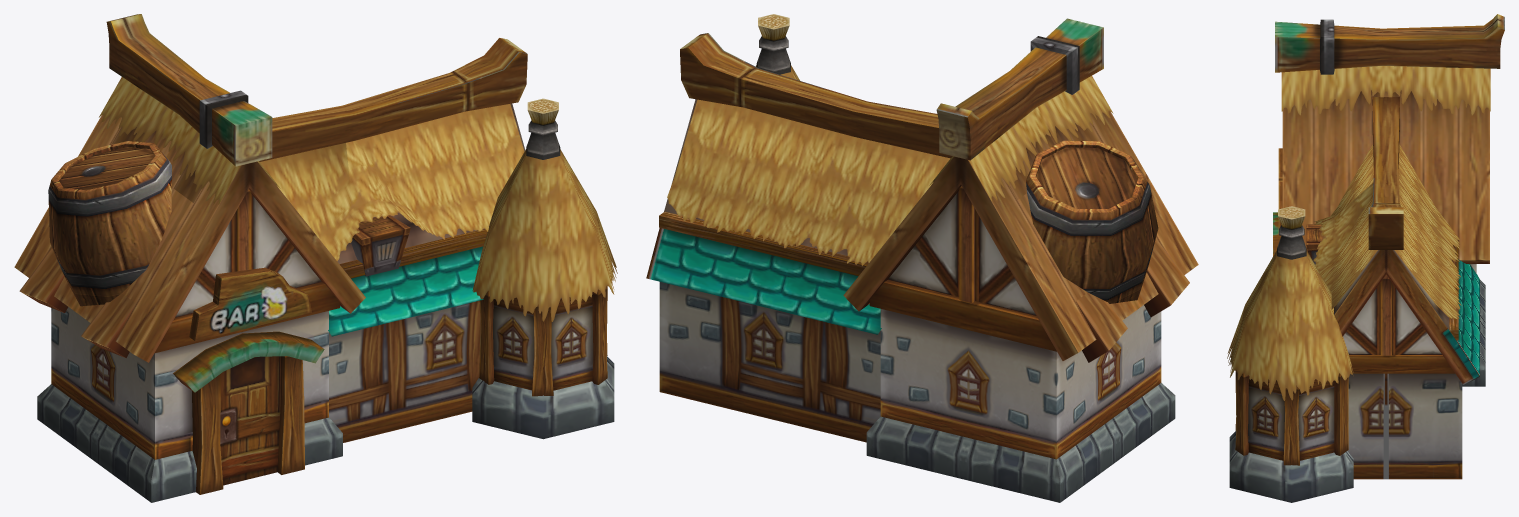
The model's file is fangzi01.FBX.
3 views of the same model, side by side, from view 1: azimuth 30°, elevation 25°; view 2: azimuth 150°, elevation 25°; view 3: azimuth 270°, elevation 25° (orthographic). The views are drawn at different scales.
Visible parts, largest first — view 1: fangzi01; view 2: fangzi01; view 3: fangzi01.
Boxes of the visible parts, bbox=[...] form: fangzi01: bbox=[14, 14, 617, 502]; fangzi01: bbox=[646, 14, 1198, 502]; fangzi01: bbox=[1227, 14, 1504, 502].
Bounding box in the file's own units: 255 × 182 × 141.
